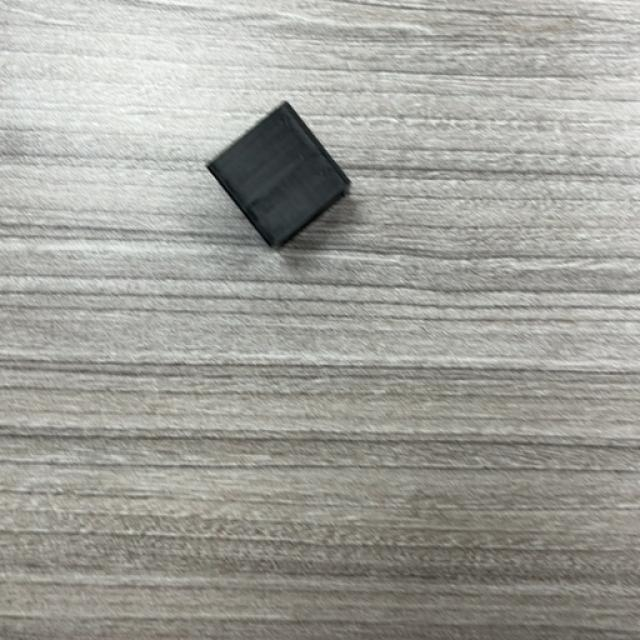Negro: (205, 102, 352, 251)
